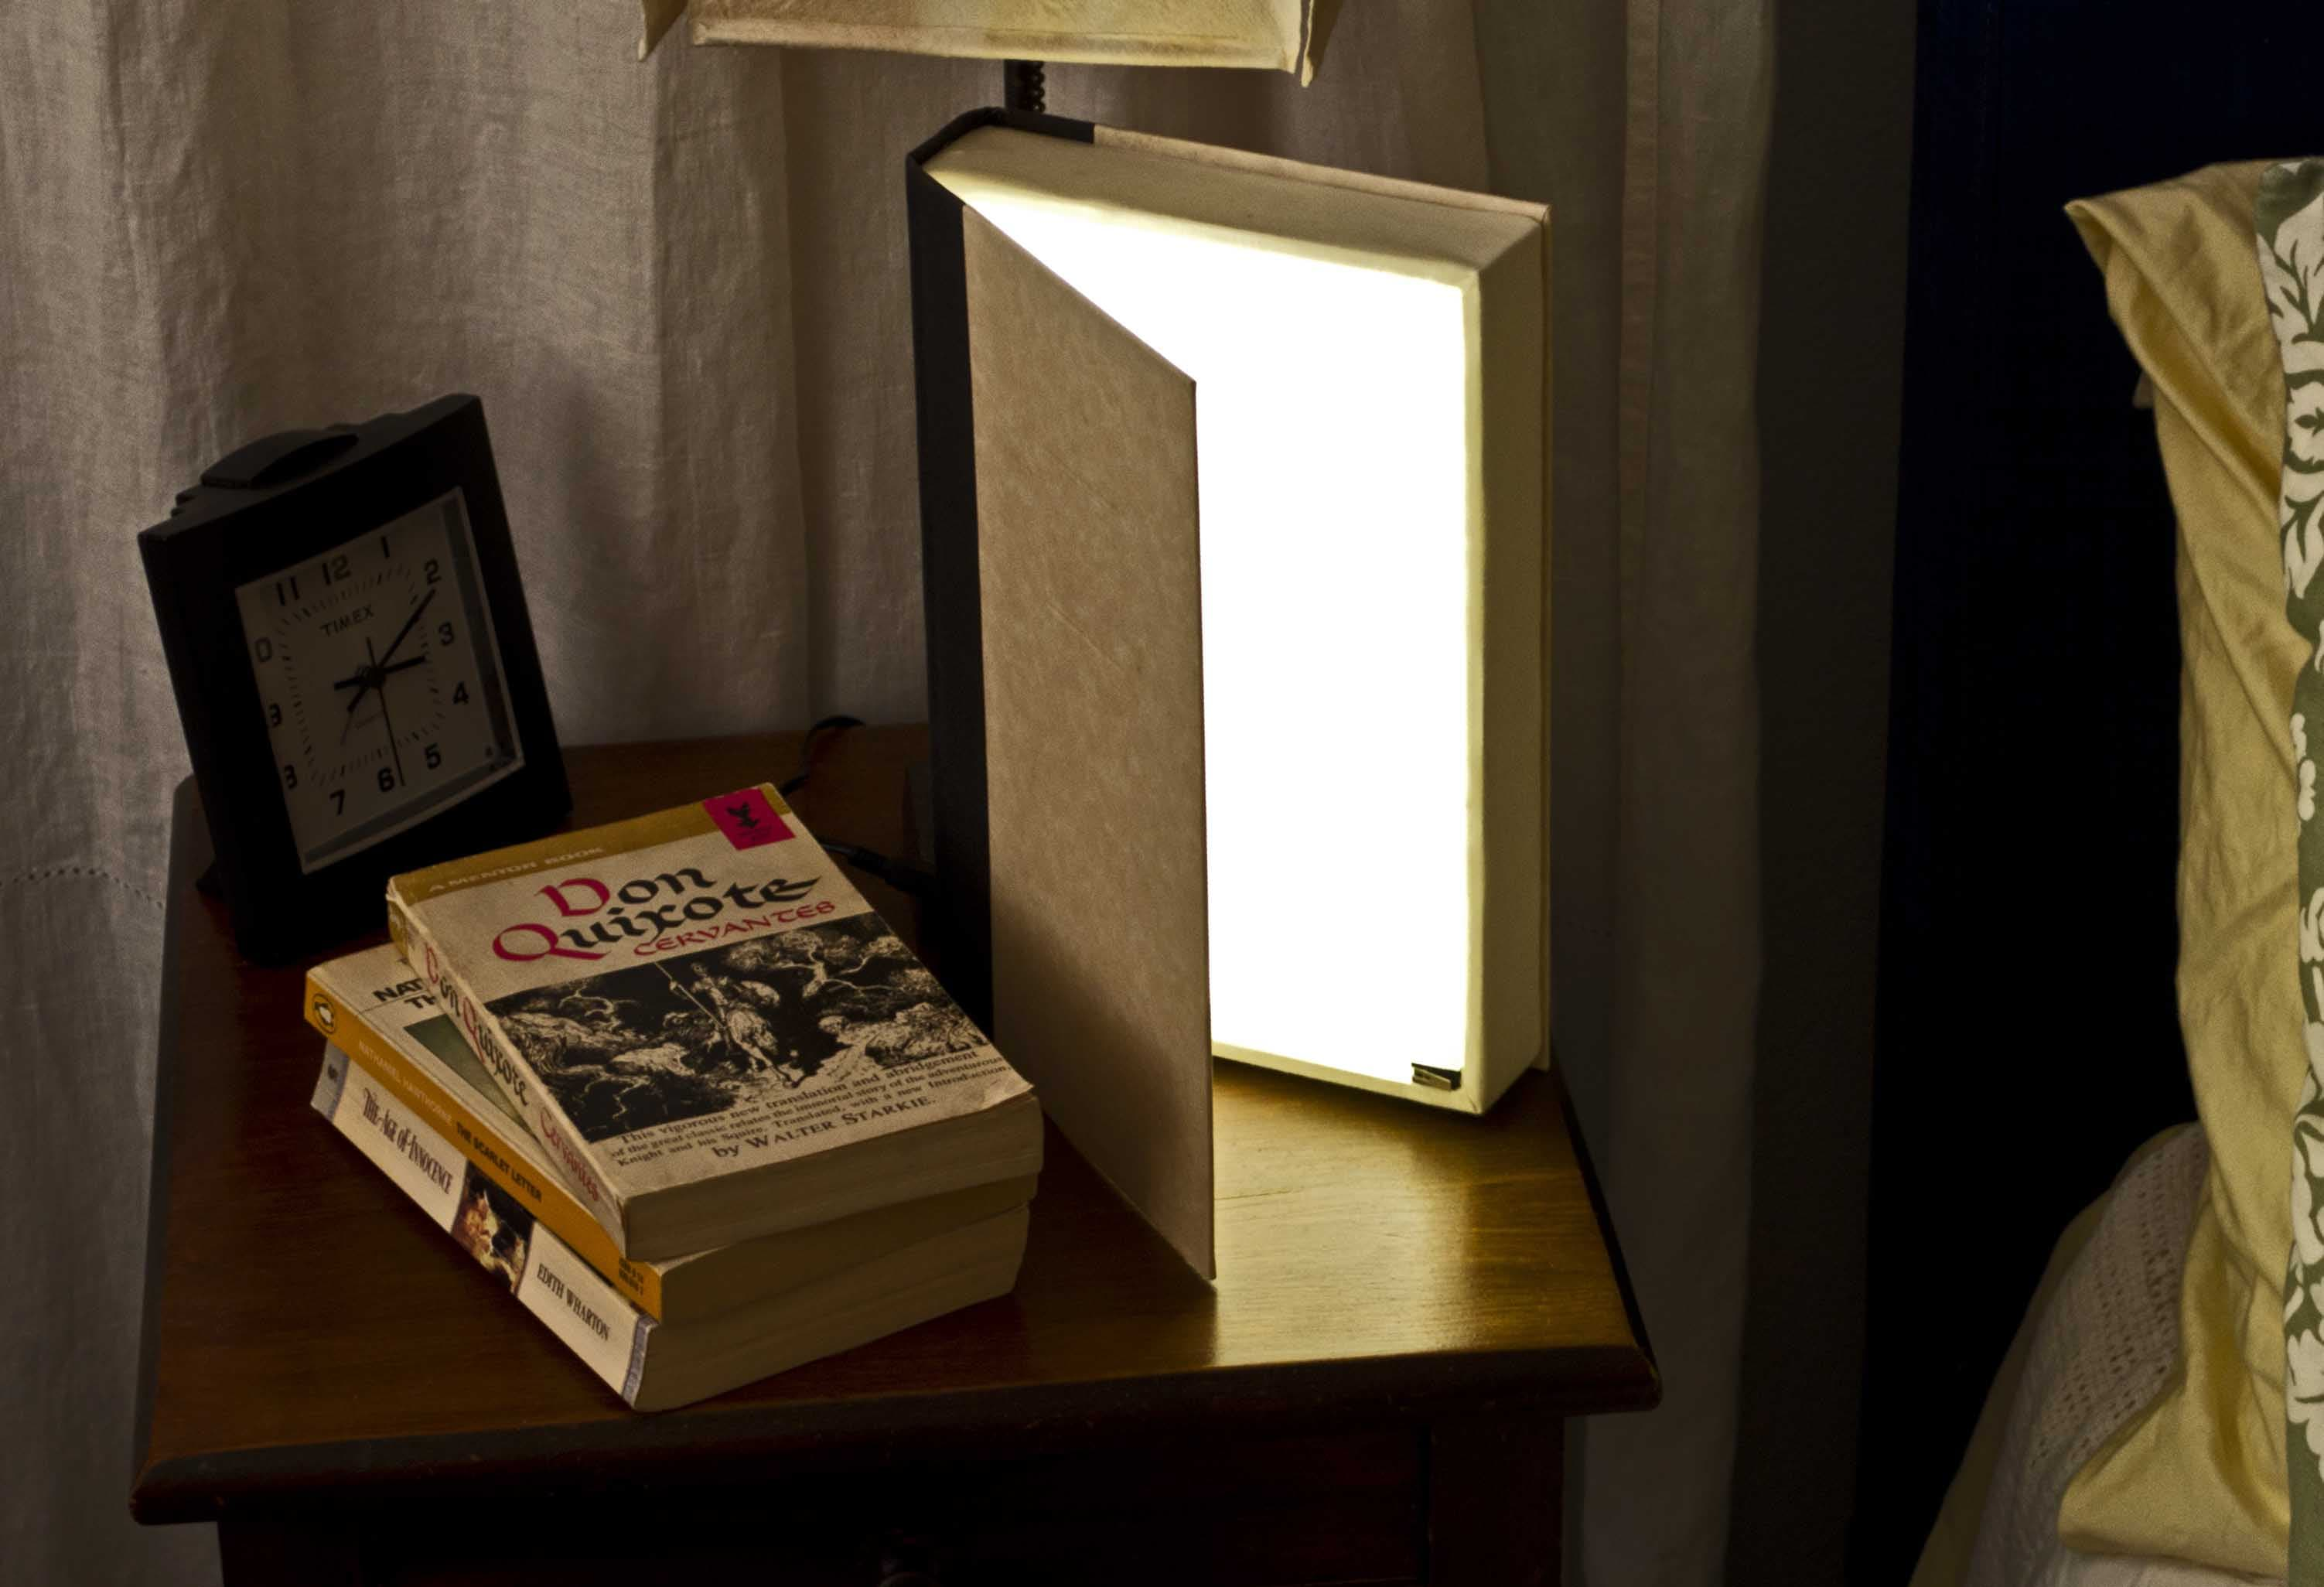book: (376, 768, 1049, 1264), (298, 932, 1040, 1322), (302, 1022, 1040, 1414)
